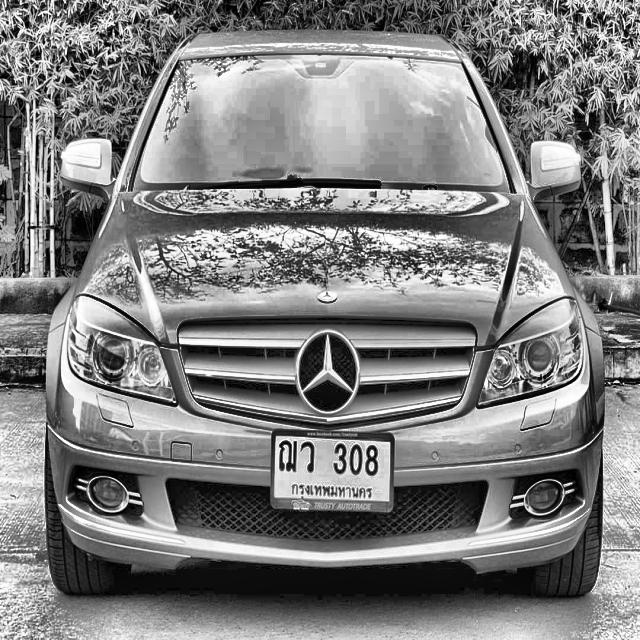license-plate: (269, 428, 395, 513)
